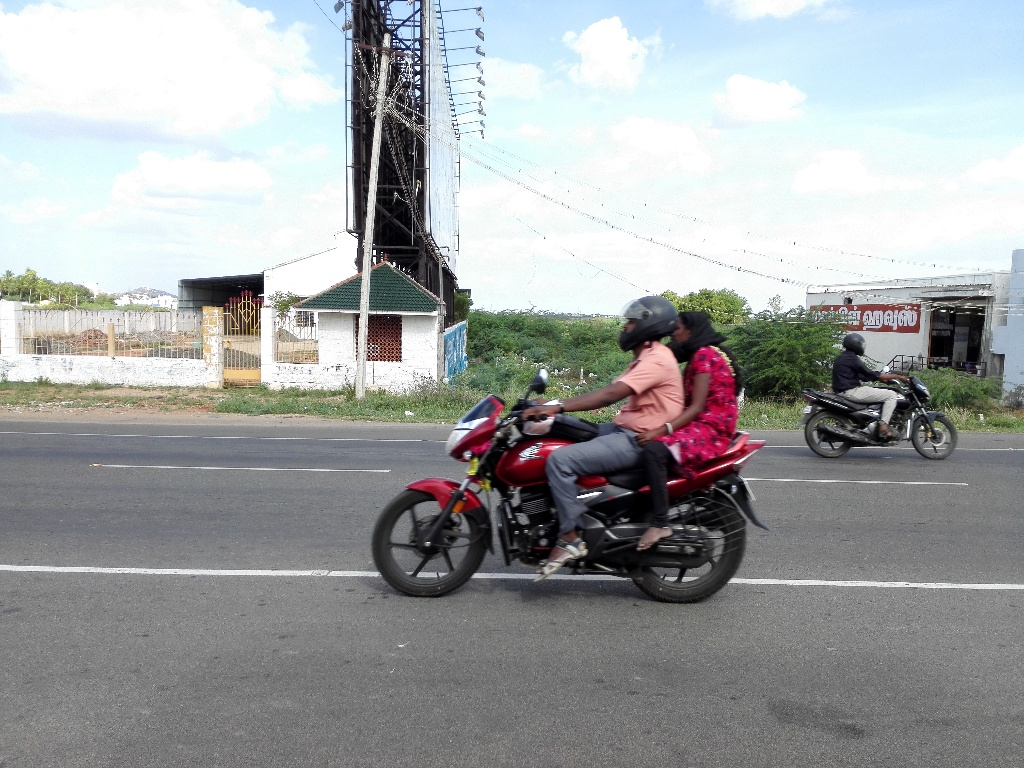biker: (350, 255, 782, 615), (795, 298, 971, 471)
helmet: (613, 291, 680, 357), (835, 323, 873, 365)
nohelmet: (677, 305, 732, 366)
